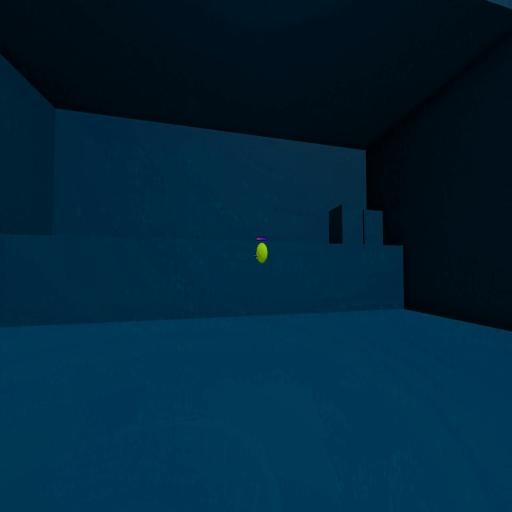Crosshair: (254, 252, 258, 260)
Target: (256, 243, 268, 265)
